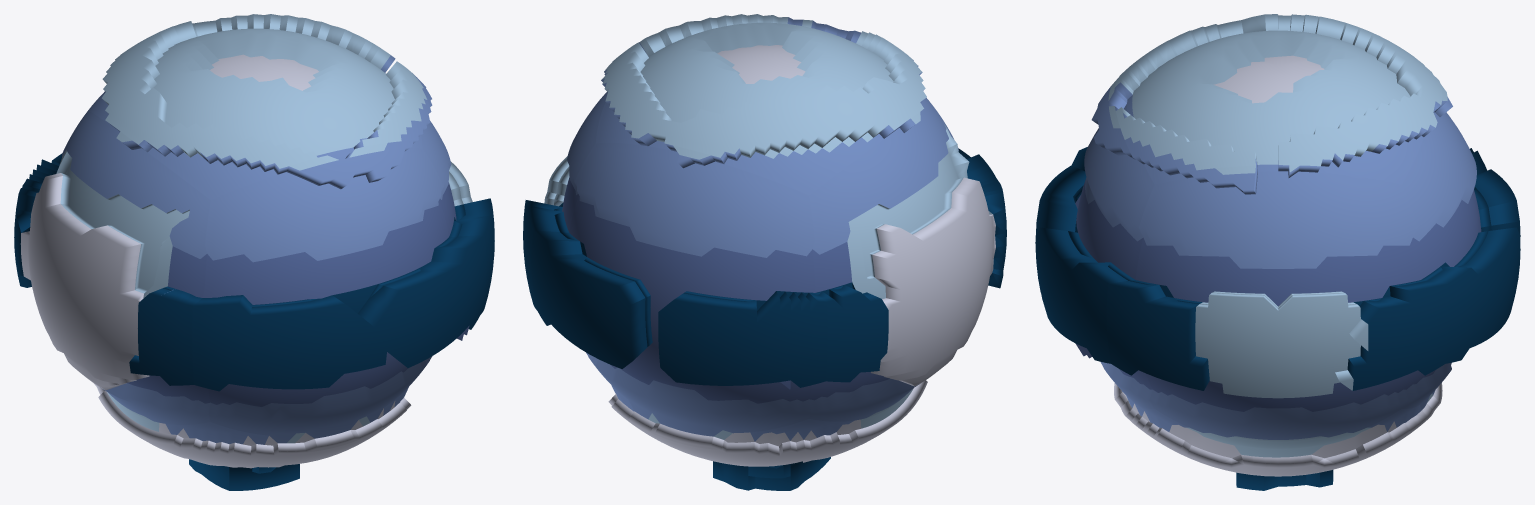
Rendered from IcePlanet.fbx.
3 views of the same model, side by side, from view 1: azimuth 30°, elevation 25°; view 2: azimuth 150°, elevation 25°; view 3: azimuth 270°, elevation 25° (orthographic).
Parts seen in each view (by area): view 1: icePlanet; view 2: icePlanet; view 3: icePlanet.
Boxes of the visible parts, left/top/right/bottom form: icePlanet: left=14, top=14, right=494, bottom=490; icePlanet: left=523, top=14, right=1006, bottom=490; icePlanet: left=1035, top=14, right=1520, bottom=490.
Bounding box in the file's own units: 133 × 135 × 140.
